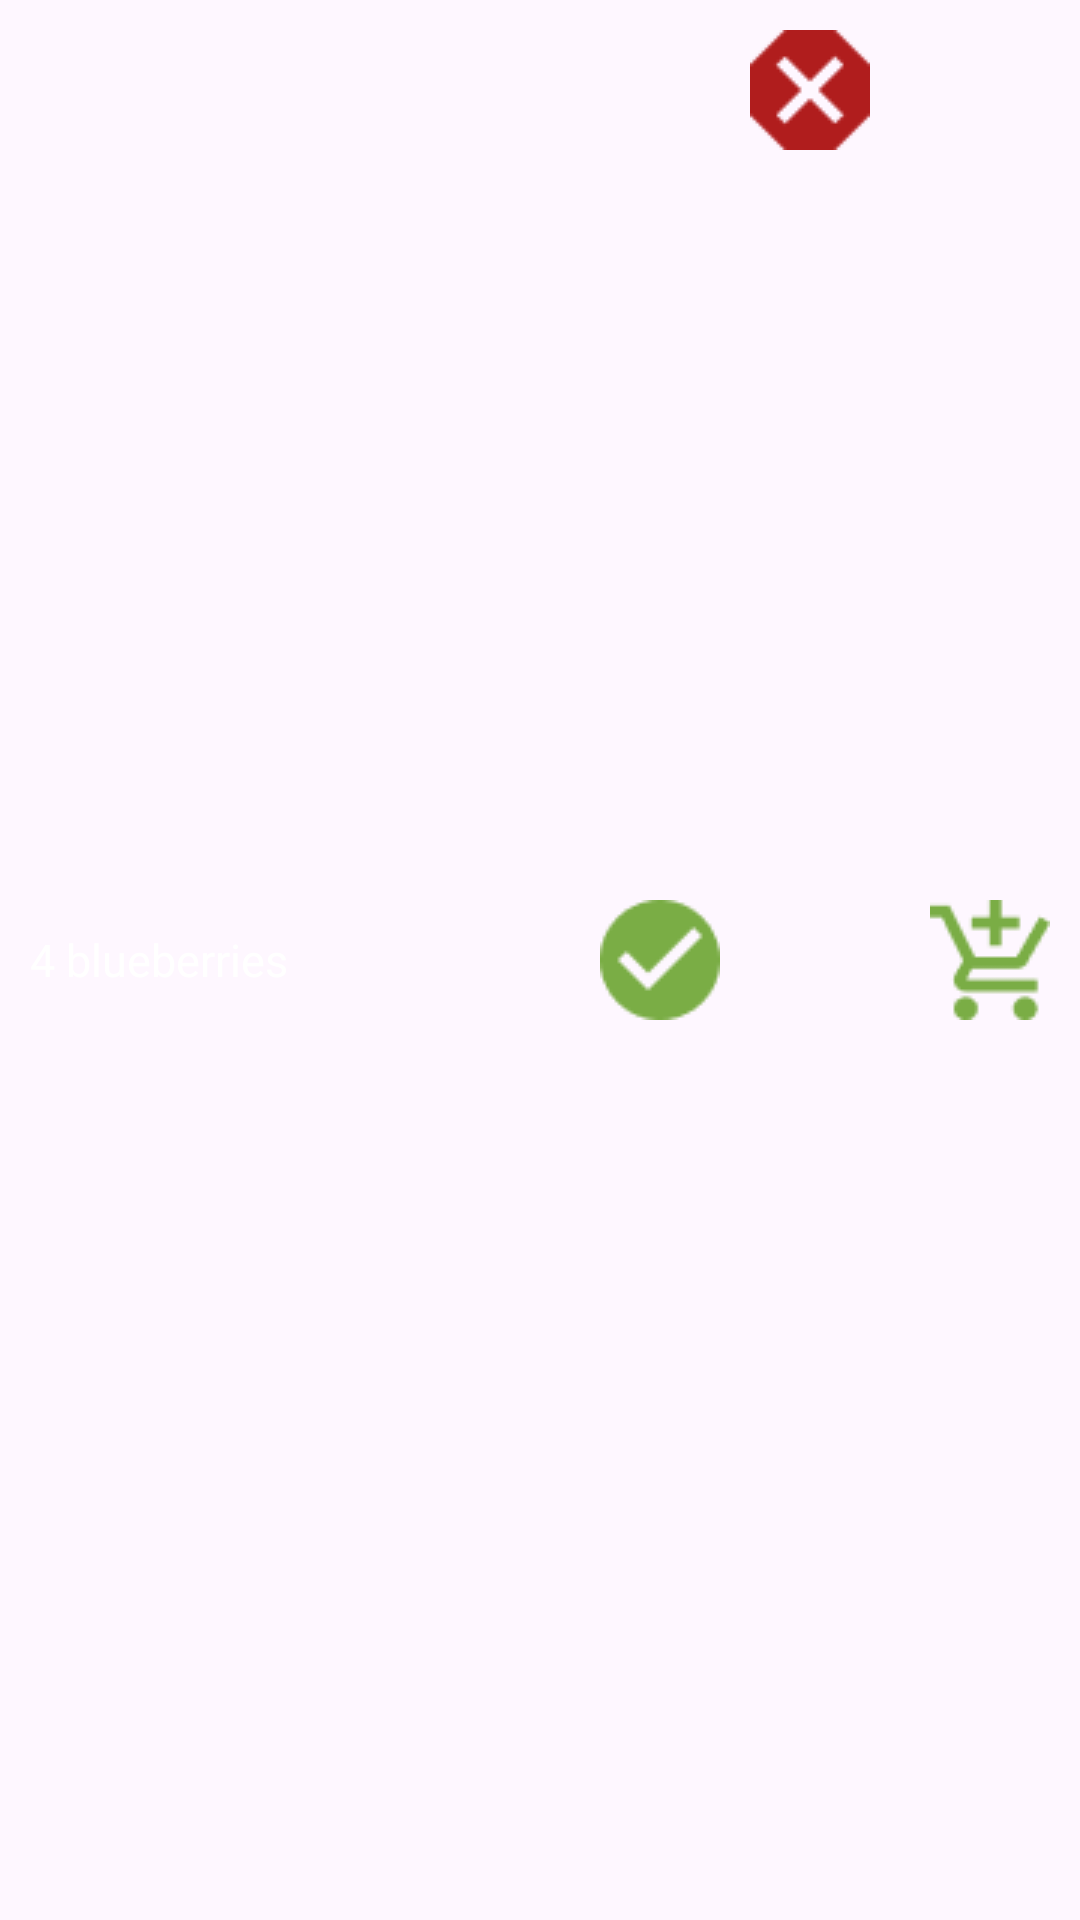

Icon bounding boxes for this 1080px×1920px phone screenshot, format (x1, y1, x2, y2):
add ingredient: (930, 900, 1050, 1020)
ingredient non valide: (750, 30, 870, 150)
ingredient valide: (600, 900, 720, 1020)
